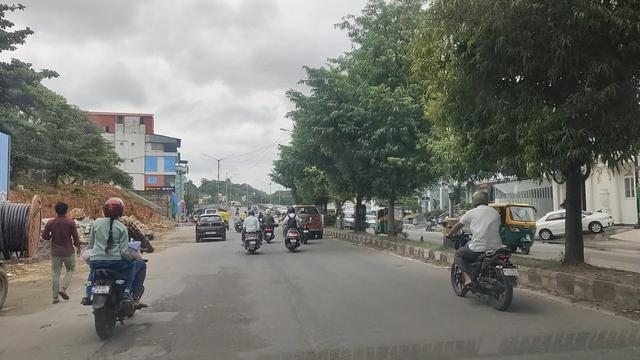LMV: (453, 194, 521, 309), (93, 190, 135, 330), (283, 211, 311, 254), (196, 213, 227, 238), (246, 213, 260, 255), (263, 209, 277, 240)
RoadDamages: (141, 286, 192, 328), (90, 344, 197, 360)
